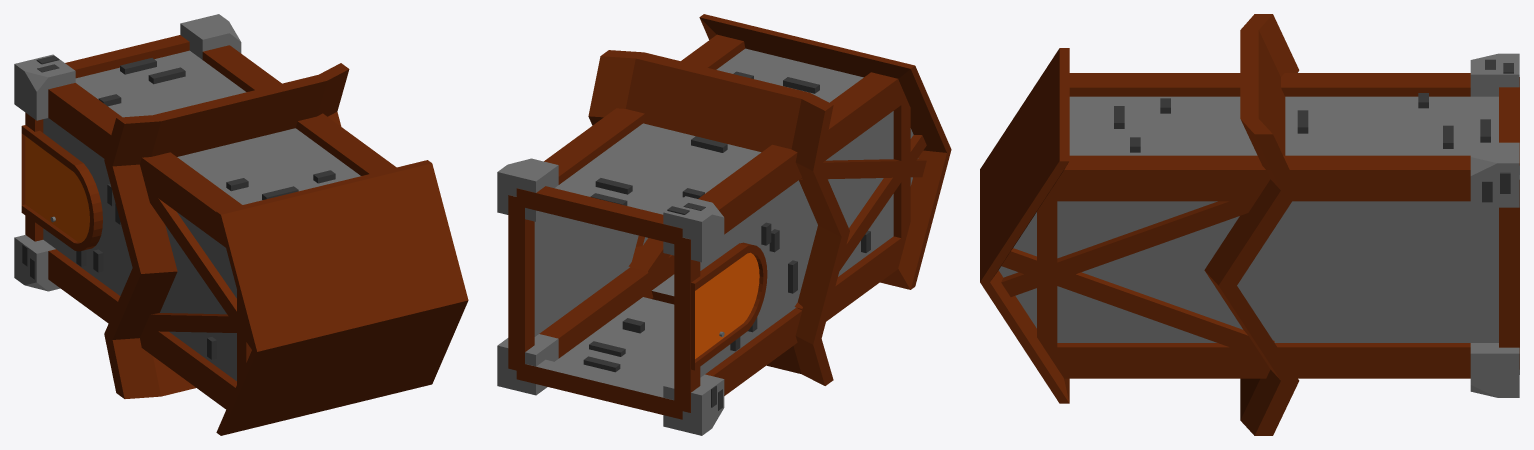
File: countrytower.glb
The picture shows the model from 3 angles, left to right: view 1: azimuth 30°, elevation 25°; view 2: azimuth 150°, elevation 25°; view 3: azimuth 270°, elevation 25°; orthographic projection. The views are drawn at different scales.
Parts seen in each view (by area): view 1: Wall, Pillar, Door, Cube; view 2: Wall, Pillar, Door, Cube; view 3: Wall, Pillar, Cube.
Boxes of the visible parts, x1,y1,x2,y2 form: Wall: (25, 35, 468, 435); Pillar: (14, 14, 396, 409); Door: (21, 125, 102, 251); Cube: (22, 55, 335, 359); Wall: (508, 14, 951, 419); Pillar: (497, 34, 926, 435); Door: (691, 242, 767, 370); Cube: (583, 71, 870, 410); Wall: (980, 14, 1519, 435); Pillar: (1001, 53, 1519, 397); Cube: (1114, 59, 1513, 202).
Size of the model in its own units: 5.42 by 6.34 by 10.29.
